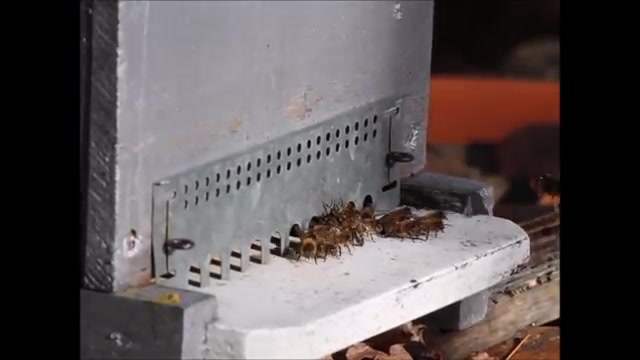bee: (417, 214, 448, 235), (325, 228, 348, 256), (347, 222, 371, 245), (300, 233, 320, 259)
